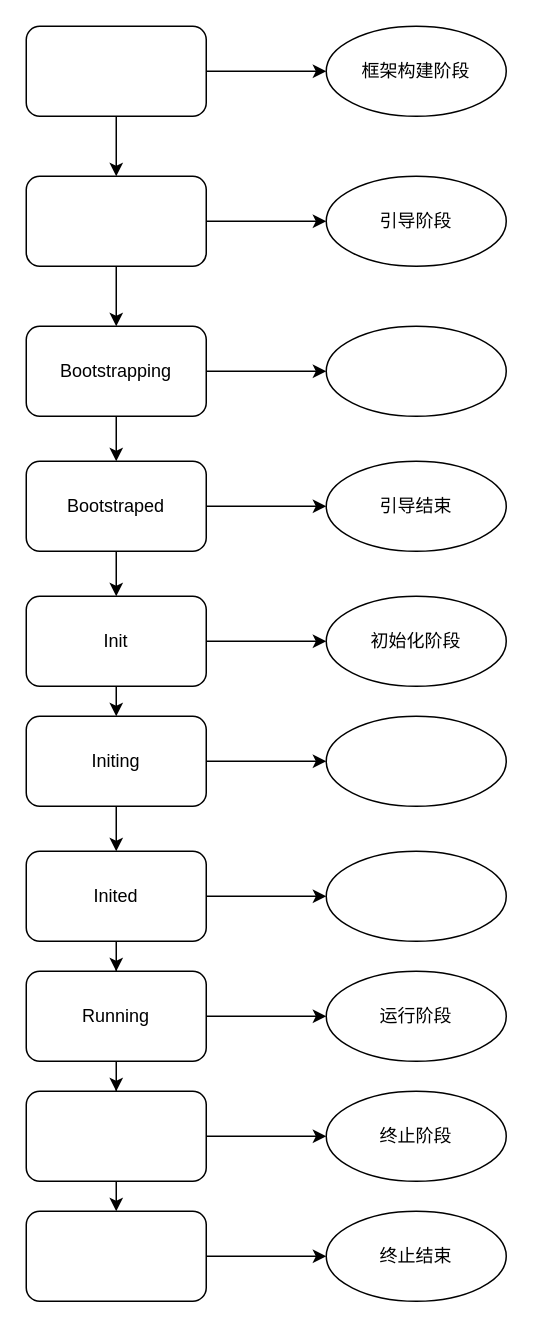
This 533x1328 diagram has some shape labels left out. Here are the shapes that lost their labels. From the top down, the box of each, then its label:
(25, 25, 206, 116): Construct
(25, 175, 206, 266): Bootstrap
(325, 325, 506, 416): 引导中
(325, 715, 506, 806): 初始化中
(325, 850, 506, 941): 初始化结束
(25, 1090, 206, 1181): Terminate
(25, 1210, 206, 1301): Terminated
